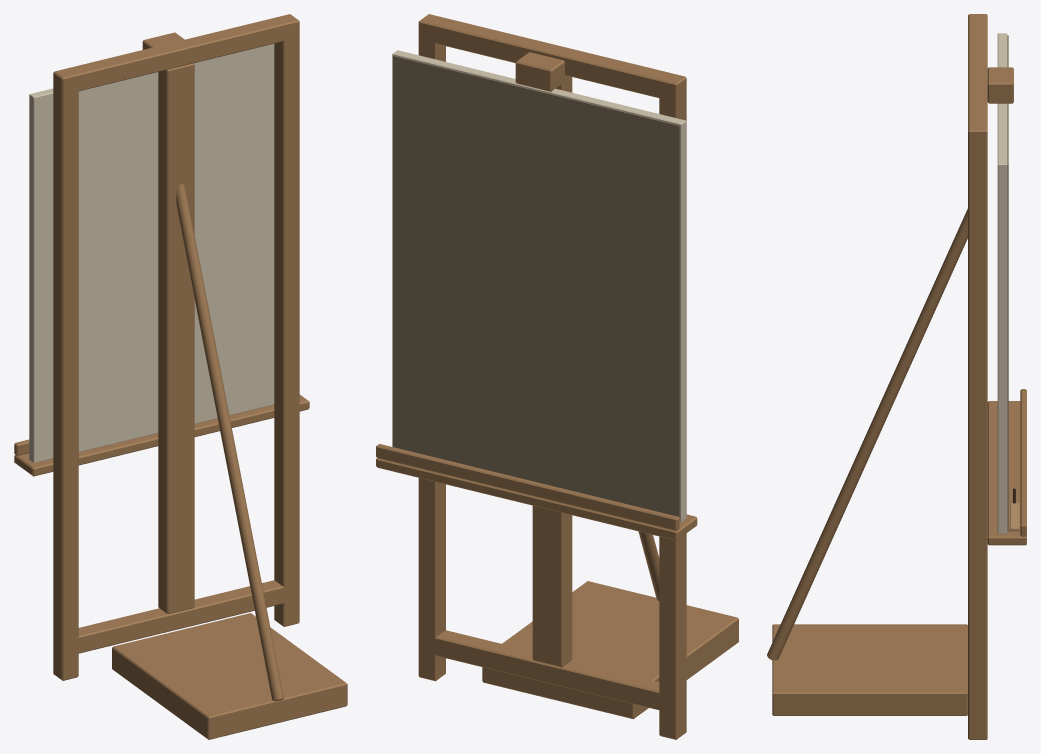
File: prop_canvas_widow_easel.glb
3 views of the same model, side by side, from view 1: azimuth 30°, elevation 25°; view 2: azimuth 150°, elevation 25°; view 3: azimuth 270°, elevation 25° (orthographic). The views are drawn at different scales.
Visible parts, largest first — view 1: Easel, Canvas; view 2: Paint, Easel, Canvas; view 3: Easel, Canvas, Paint.
Part boxes in pixels (x1,y1,x2,y2): Easel: (14,14,347,739); Canvas: (29,43,274,462); Paint: (393,55,679,520); Easel: (376,14,738,739); Canvas: (392,50,686,521); Easel: (767,14,1026,739); Canvas: (997,33,1007,533); Paint: (1007,35,1008,531).
Bounding box in the file's own units: 0.99 × 2.06 × 0.7956.
